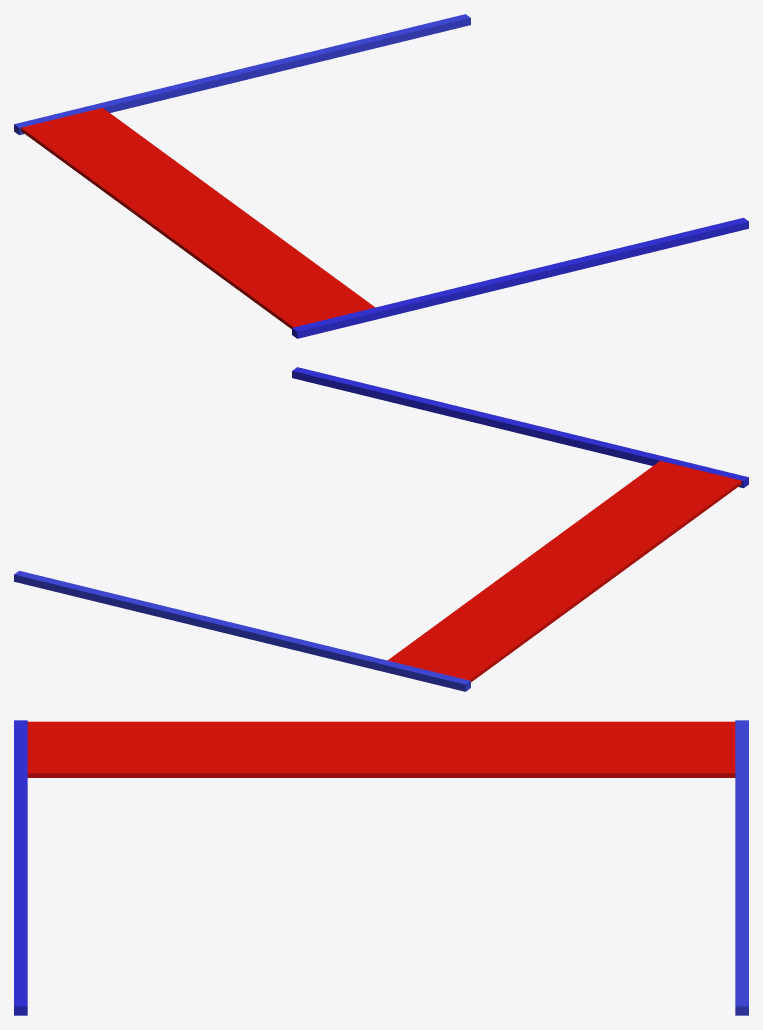
The model's file is START.fbx.
3 views of the same model, one above another, from view 1: azimuth 30°, elevation 25°; view 2: azimuth 150°, elevation 25°; view 3: azimuth 270°, elevation 25° (orthographic). The views are drawn at different scales.
Visible parts, largest first — view 1: Куб, Cube.002, Cube.001; view 2: Куб, Cube.001, Cube.002; view 3: Куб, Cube.001, Cube.002.
Boxes of the visible parts, x1=… form: Куб: x1=21, y1=108, x2=375, y2=329; Cube.002: x1=292, y1=217, x2=748, y2=338; Cube.001: x1=14, y1=14, x2=470, y2=135; Куб: x1=387, y1=461, x2=741, y2=682; Cube.001: x1=14, y1=570, x2=470, y2=691; Cube.002: x1=292, y1=367, x2=748, y2=488; Куб: x1=27, y1=721, x2=735, y2=777; Cube.001: x1=735, y1=720, x2=748, y2=1015; Cube.002: x1=14, y1=720, x2=27, y2=1015.
Size of the model in its own units: 1077 by 16.4 by 1170.
